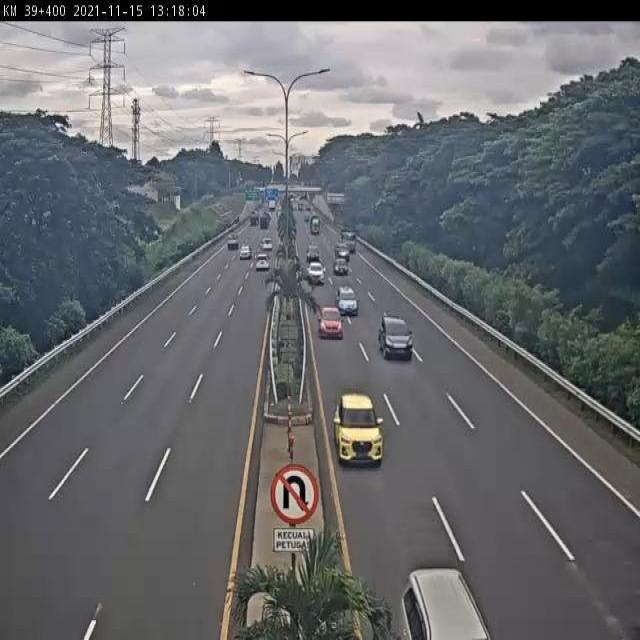car: (334, 393, 385, 471), (377, 313, 414, 363), (334, 283, 360, 317), (317, 305, 342, 339), (307, 261, 326, 284)
